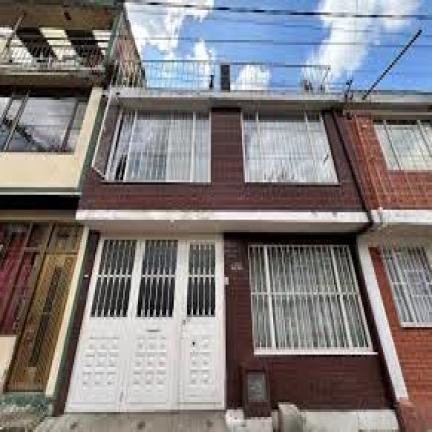casa: (67, 92, 398, 430)
